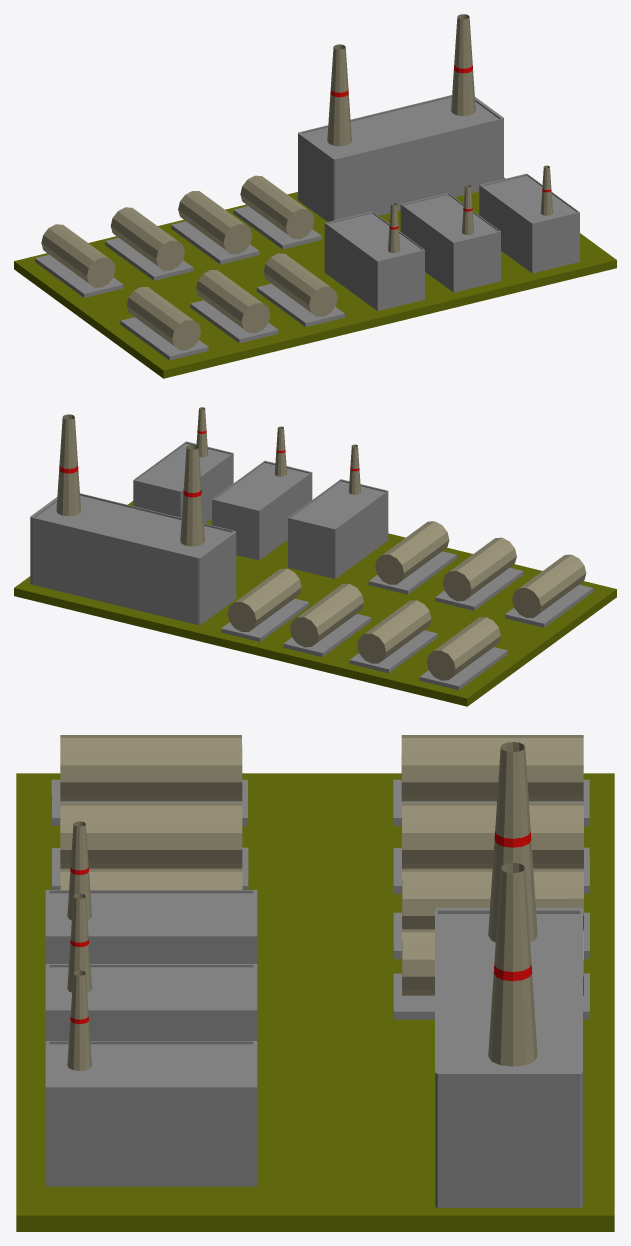
Rendered from FACTO.fbx.
3 renders of one model, top to bottom at view 1: azimuth 30°, elevation 25°; view 2: azimuth 150°, elevation 25°; view 3: azimuth 270°, elevation 25°, orthographic. The views are drawn at different scales.
Visible parts, largest first — view 1: Cube, Cube.001, Cube.007, Cube.002, Cube.003, Cylinder.004, Cylinder.009, Cylinder.008, Cylinder.002, Cylinder.003, Cylinder.010, Cylinder.011 (+10 smaller); view 2: Cube, Cube.001, Cube.007, Cube.003, Cube.002, Cylinder.008, Cylinder.011, Cylinder.009, Cylinder.002, Cylinder.004, Cylinder.003, Cylinder.010 (+12 smaller); view 3: Cube, Cube.001, Cube.002, Cube.003, Cube.007, Cylinder.002, Cylinder.003, Cylinder.008, Cylinder.009, Cylinder, Cylinder.010, Cylinder.001 (+11 smaller).
Boxes of the visible parts, x1,y1,x2,y2 form: Cube: [14, 177, 616, 378]; Cube.001: [298, 95, 503, 221]; Cube.007: [324, 211, 424, 311]; Cube.002: [479, 173, 579, 273]; Cube.003: [400, 193, 500, 292]; Cylinder.004: [263, 253, 337, 316]; Cylinder.009: [110, 207, 184, 270]; Cylinder.008: [41, 224, 115, 287]; Cylinder.002: [126, 287, 200, 350]; Cylinder.003: [196, 270, 270, 333]; Cylinder.010: [178, 191, 252, 254]; Cylinder.011: [240, 175, 314, 238]; Cube: [14, 501, 616, 706]; Cube.001: [30, 493, 236, 625]; Cube.007: [288, 479, 388, 578]; Cube.003: [212, 460, 312, 560]; Cube.002: [133, 441, 233, 523]; Cylinder.008: [426, 617, 500, 680]; Cylinder.011: [227, 568, 301, 631]; Cylinder.009: [357, 600, 431, 663]; Cylinder.002: [512, 554, 586, 617]; Cylinder.004: [375, 521, 449, 584]; Cylinder.003: [442, 537, 516, 601]; Cylinder.010: [290, 584, 363, 647]; Cube: [16, 773, 614, 1231]; Cube.001: [435, 907, 582, 1207]; Cube.002: [45, 1041, 257, 1186]; Cube.003: [45, 964, 257, 1040]; Cube.007: [45, 890, 257, 963]; Cylinder.002: [60, 735, 242, 801]; Cylinder.003: [60, 802, 242, 868]; Cylinder.008: [401, 735, 583, 801]; Cylinder.009: [402, 802, 583, 868]; Cylinder: [488, 863, 537, 1066]; Cylinder.010: [402, 868, 583, 929]; Cylinder.001: [488, 742, 537, 942].
Bounding box in the file's own units: 157 × 55.33 × 89.47.
